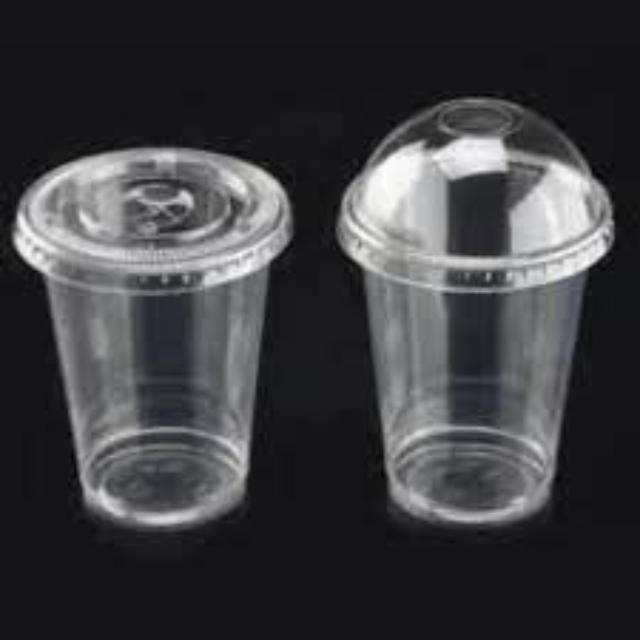Plastico descartable: (338, 98, 614, 524), (14, 148, 292, 527)
